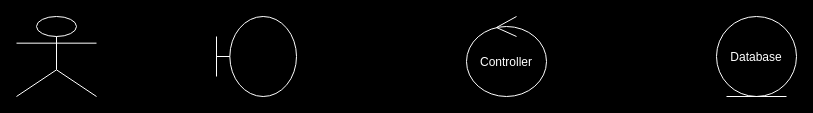
The diagram is 813 pixels wide and 113 high, and some of its shapes have lost their labels. Each missing label, with the box of its shape:
Admin: (16, 16, 96, 96)
Website: (216, 16, 296, 96)
